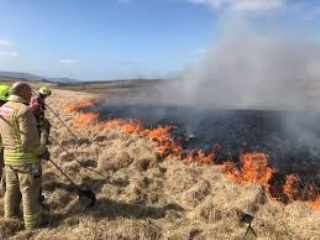fire: (70, 95, 183, 147), (197, 149, 303, 195)
smoke: (117, 38, 307, 130)
